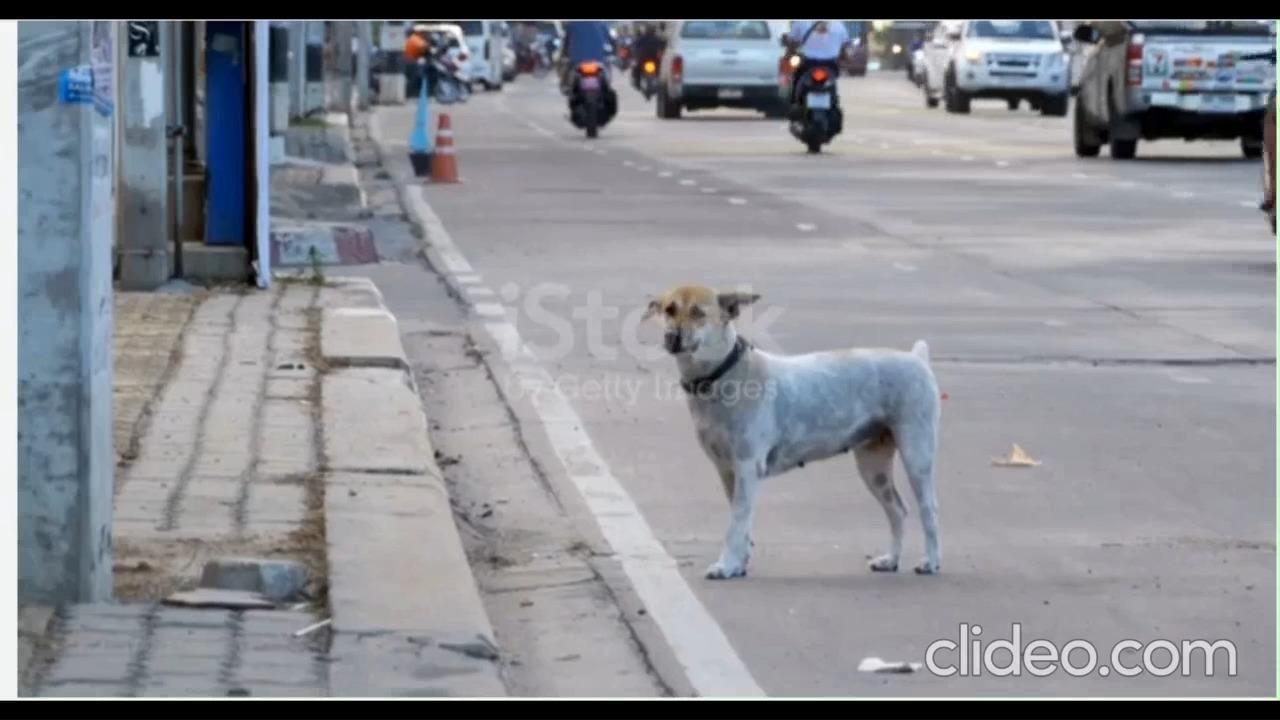dog: (637, 284, 949, 586)
